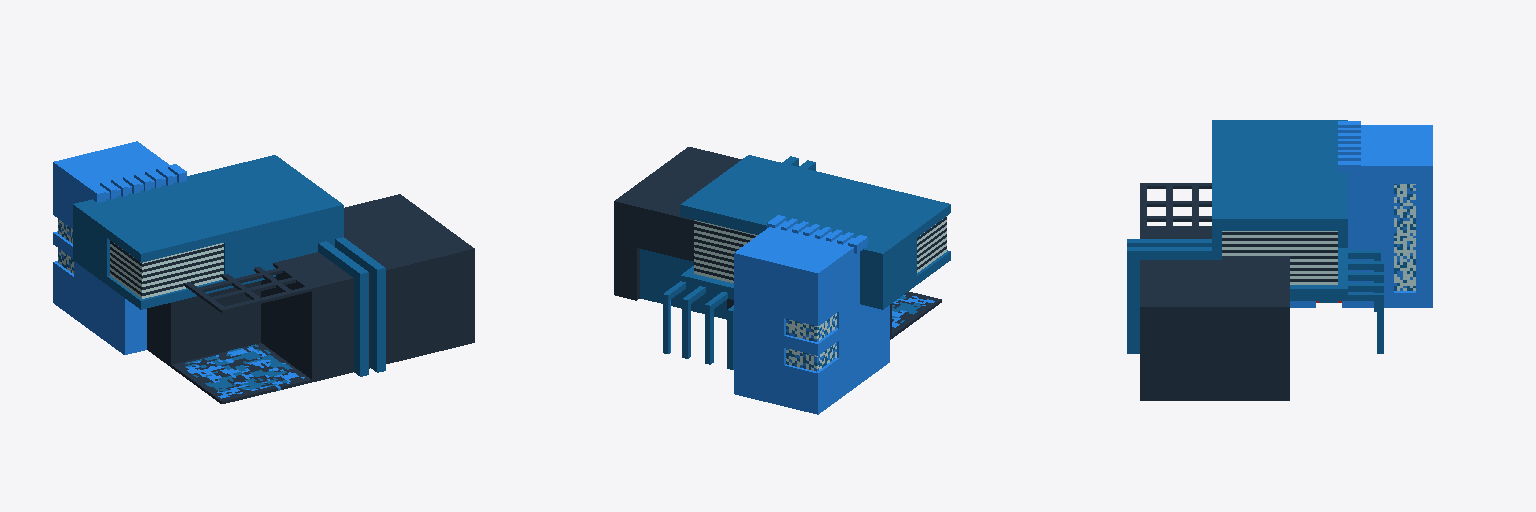
The picture shows the model from 3 angles: view 1: azimuth 30°, elevation 25°; view 2: azimuth 150°, elevation 25°; view 3: azimuth 270°, elevation 25°; orthographic projection.
Size of the model in its own units: 106 by 49 by 94.
Materials: 1 (1 with a texture image).